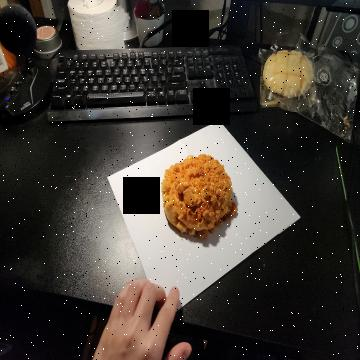soboru_bread: (162, 155, 239, 244)
